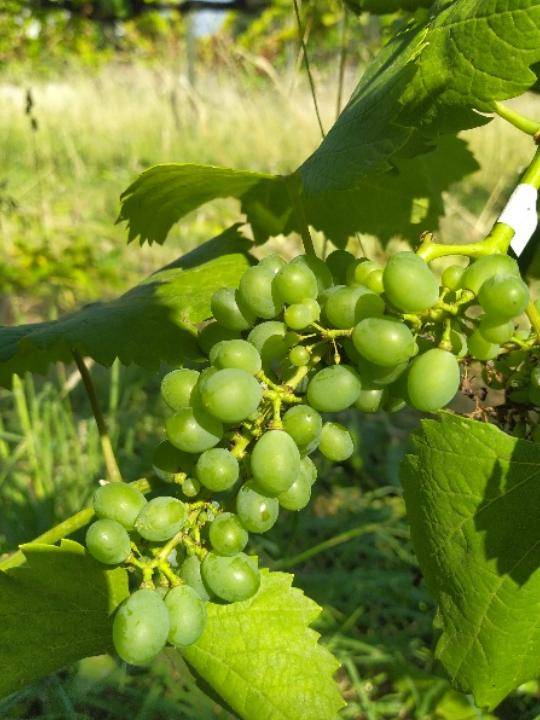grape: (79, 238, 537, 679)
